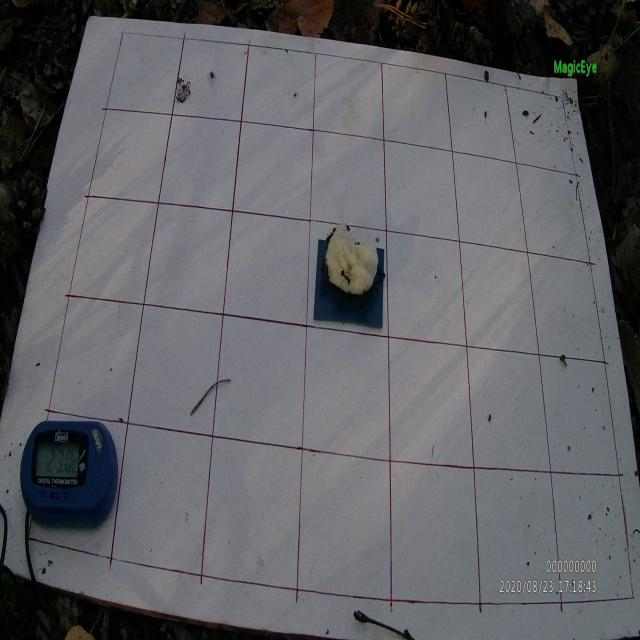Ant: (337, 265, 351, 288), (320, 256, 328, 276), (206, 69, 217, 82)
